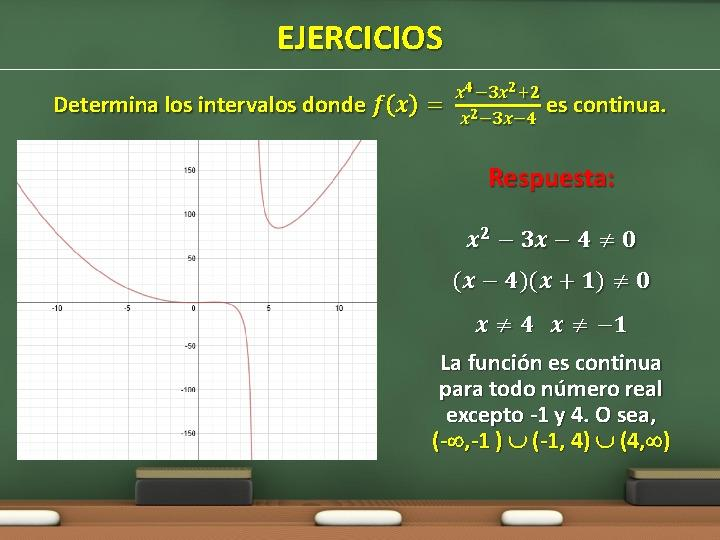paragraph: (14, 78, 704, 464)
title: (265, 16, 456, 61)
